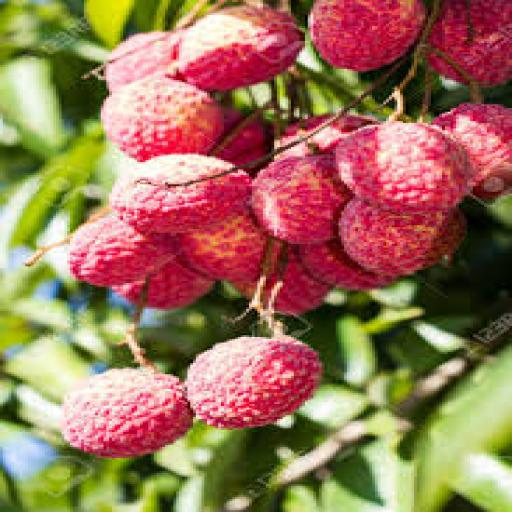lychee: (185, 336, 321, 428), (336, 122, 472, 212), (62, 369, 193, 458), (110, 155, 251, 232), (101, 75, 223, 160), (180, 6, 302, 91), (339, 200, 464, 275), (252, 155, 352, 243), (311, 0, 425, 70), (68, 216, 176, 286), (434, 105, 511, 199), (429, 0, 511, 85), (180, 211, 268, 281), (112, 259, 212, 309), (300, 241, 397, 290), (263, 248, 332, 314), (104, 32, 181, 91), (277, 116, 377, 158), (213, 110, 271, 165)
